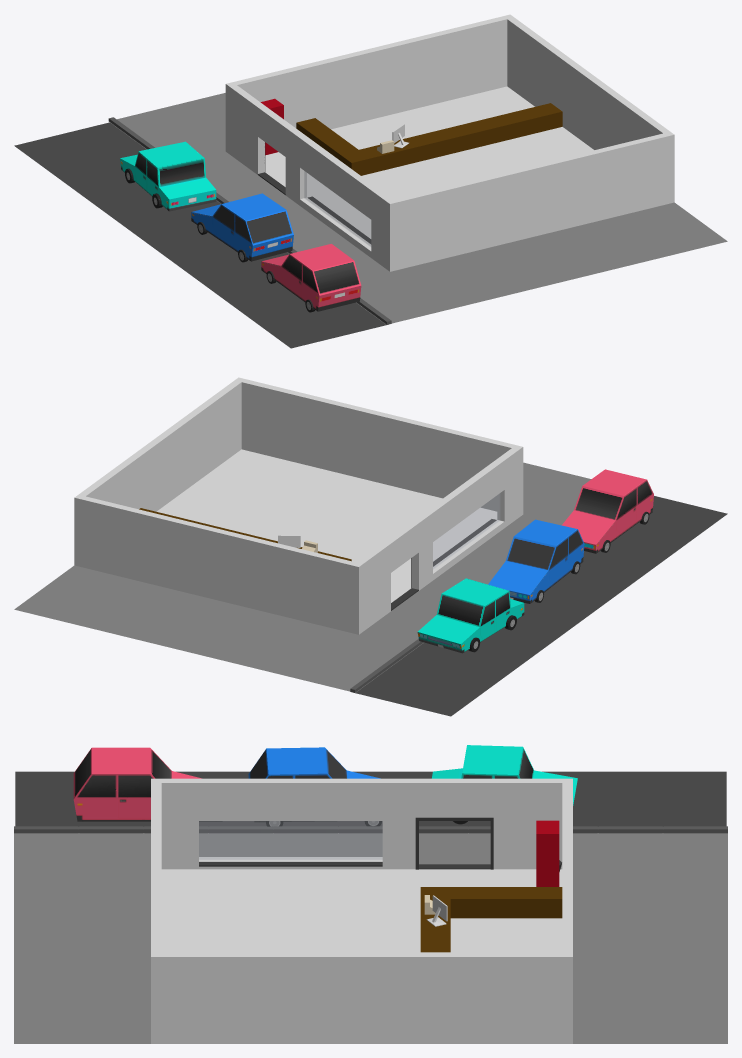
File: cafe_model.fbx
The picture shows the model from 3 angles, top to bottom: view 1: azimuth 30°, elevation 25°; view 2: azimuth 150°, elevation 25°; view 3: azimuth 270°, elevation 25°; orthographic projection. The views are drawn at different scales.
Parts seen in each view (by area): view 1: walls, sidewalk, road, Floor, desk, car02, car05, car03, glass, curb; view 2: walls, sidewalk, Floor, road, car02, car03, car05, glass, curb; view 3: sidewalk, walls, Floor, road, glass, car05, desk, curb, car02, car03, cokemachine, windowsil (+1 smaller).
Boxes of the visible parts, box(x1,y1,x2,y2) form: walls: box(225, 14, 674, 271); sidewalk: box(109, 93, 727, 324); road: box(14, 122, 386, 348); Floor: box(265, 86, 593, 238); desk: box(296, 103, 562, 175); car02: box(191, 193, 293, 262); car05: box(261, 244, 361, 312); car03: box(120, 141, 216, 211); glass: box(304, 171, 370, 246); curb: box(108, 117, 391, 324); walls: box(74, 377, 523, 634); sidewalk: box(14, 462, 591, 692); Floor: box(156, 449, 497, 602); road: box(355, 496, 727, 716); car02: box(488, 519, 584, 603); car03: box(417, 578, 524, 653); car05: box(561, 469, 653, 553); glass: box(433, 494, 499, 568); curb: box(350, 639, 423, 692); sidewalk: box(14, 833, 727, 1043); walls: box(151, 778, 572, 1043); Floor: box(161, 869, 562, 952); road: box(15, 771, 726, 826); glass: box(199, 821, 382, 859); car05: box(73, 747, 222, 821); desk: box(420, 887, 562, 952); curb: box(14, 826, 727, 833); car02: box(248, 747, 381, 826); car03: box(432, 745, 577, 824); cokemachine: box(536, 820, 559, 886); windowsil: box(199, 862, 382, 866).
Size of the model in its own units: 2684 by 403 by 2962.
13 materials, 3 textured.
